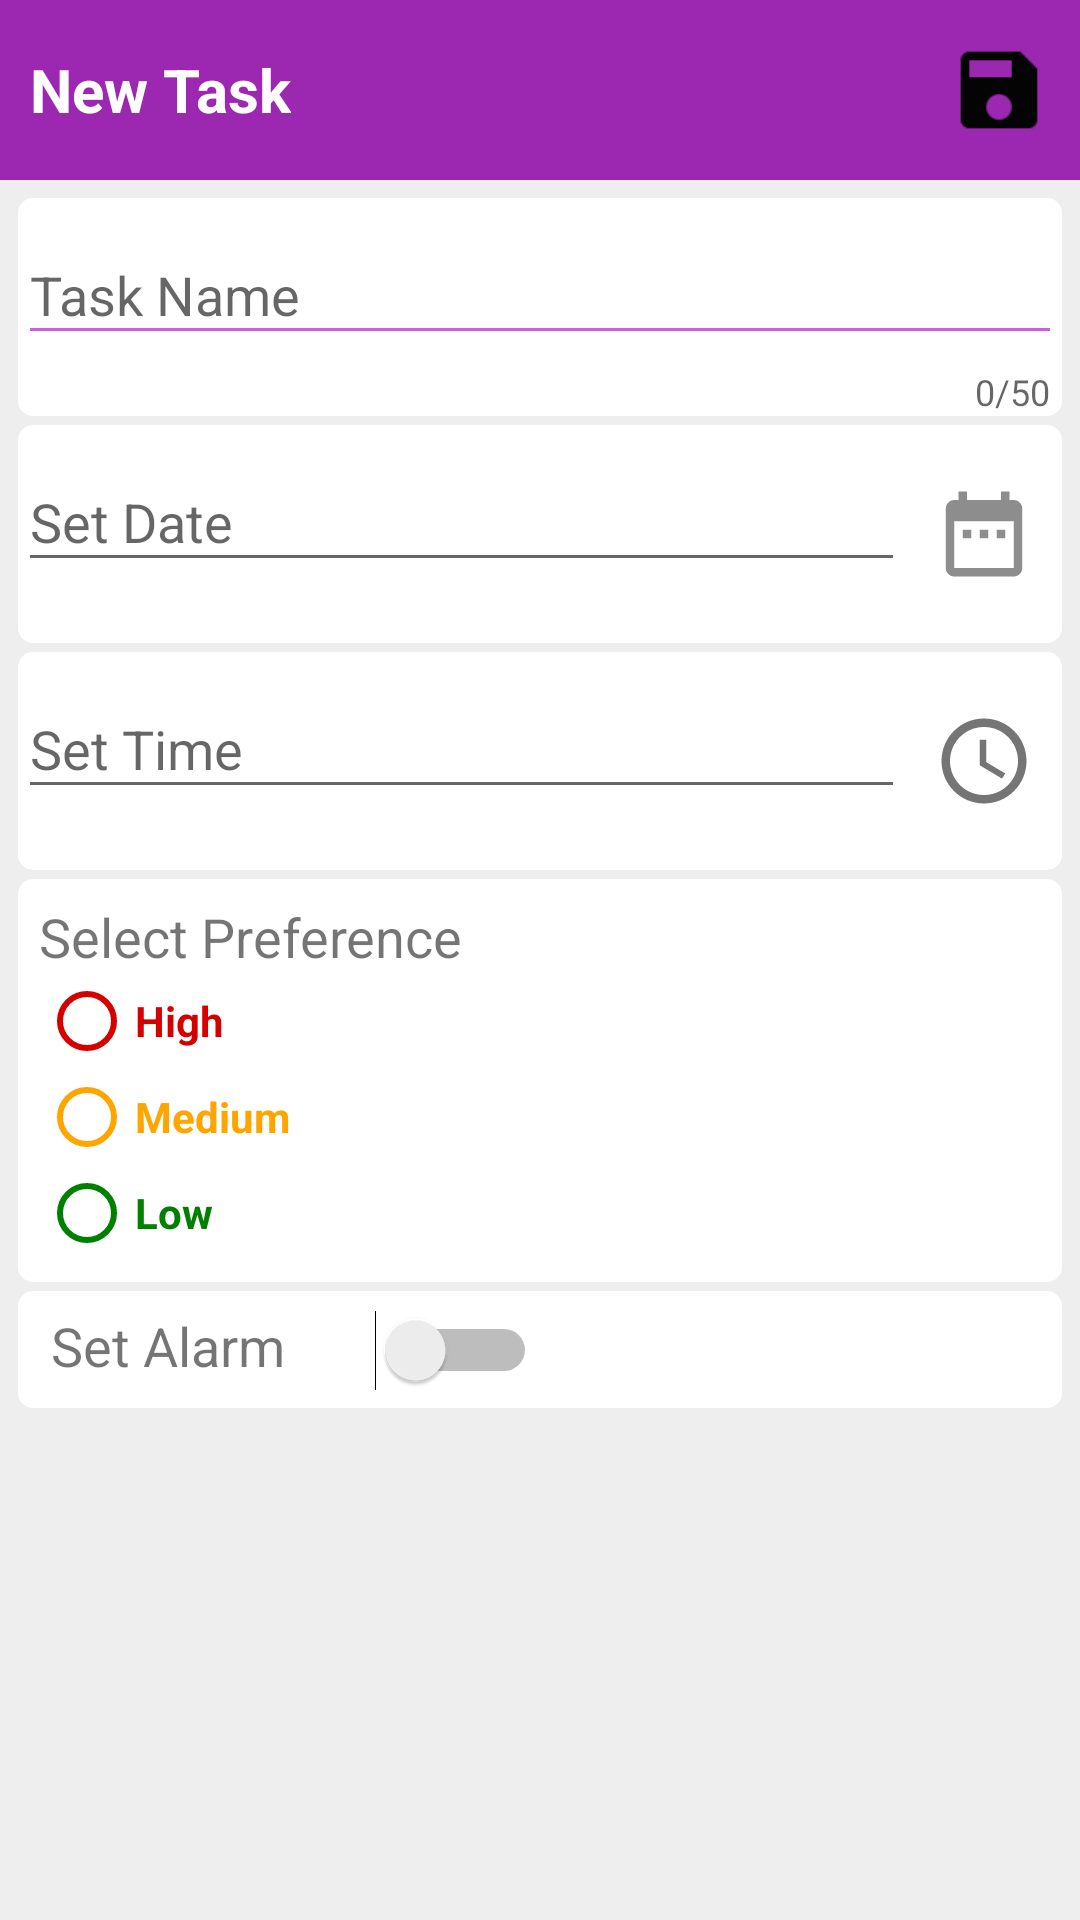

Where to tap for icons on this 1080w x 1920h app screen, as [x,y]:
dateicon: [984,534]
saveicon: [999,90]
timeicon: [984,761]
